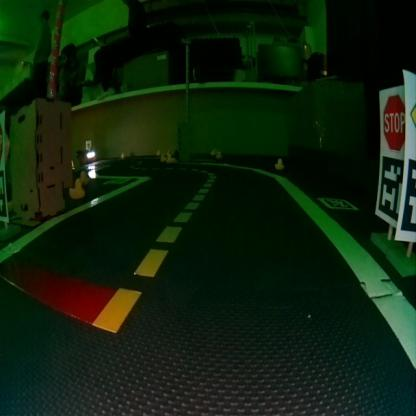Duckie: (69, 178, 84, 198), (80, 170, 88, 184), (274, 158, 283, 168), (160, 153, 166, 162), (215, 151, 222, 158), (166, 154, 172, 162)
QR code: (376, 154, 402, 220), (400, 158, 414, 230), (319, 198, 355, 208)
Stop sign: (382, 94, 404, 150)
